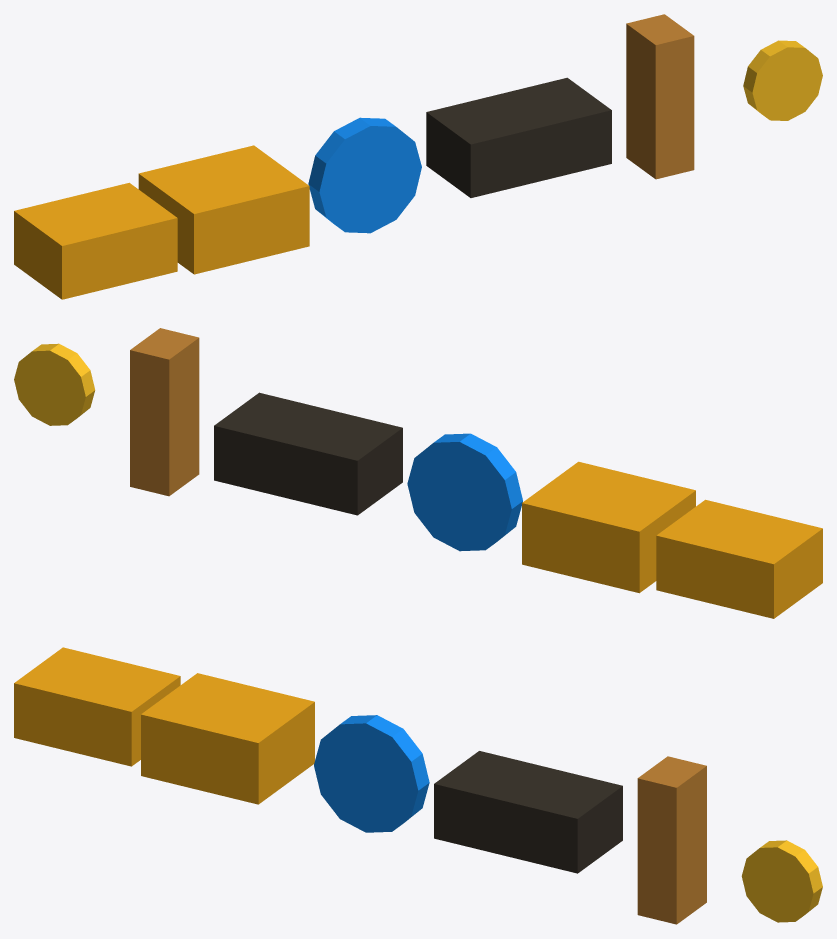
Rendered from FRAG_V0134_EnemyShutdownCueFragments.obj.
The picture shows the model from 3 angles, top to bottom: view 1: azimuth 30°, elevation 25°; view 2: azimuth 150°, elevation 25°; view 3: azimuth 330°, elevation 25°; orthographic projection.
Visible parts, largest first — view 1: bulwark_dim_shield_hinge_shutdown_piece, scrapper_dim_hammer_face_shutdown_piece, scrapper_dim_cutter_tooth_shutdown_piece, warden_dim_cage_rib_shutdown_piece, lancer_dim_bolt_coil_shutdown_piece, shared_broken_weak_lamp_lens_shutdown_piece; view 2: bulwark_dim_shield_hinge_shutdown_piece, scrapper_dim_hammer_face_shutdown_piece, scrapper_dim_cutter_tooth_shutdown_piece, warden_dim_cage_rib_shutdown_piece, lancer_dim_bolt_coil_shutdown_piece, shared_broken_weak_lamp_lens_shutdown_piece; view 3: scrapper_dim_hammer_face_shutdown_piece, bulwark_dim_shield_hinge_shutdown_piece, scrapper_dim_cutter_tooth_shutdown_piece, warden_dim_cage_rib_shutdown_piece, lancer_dim_bolt_coil_shutdown_piece, shared_broken_weak_lamp_lens_shutdown_piece.
Boxes of the visible parts, left/top/right/bottom form: bulwark_dim_shield_hinge_shutdown_piece: left=426, top=77, right=611, bottom=197; scrapper_dim_hammer_face_shutdown_piece: left=138, top=145, right=309, bottom=274; scrapper_dim_cutter_tooth_shutdown_piece: left=14, top=182, right=177, bottom=299; warden_dim_cage_rib_shutdown_piece: left=626, top=14, right=694, bottom=179; lancer_dim_bolt_coil_shutdown_piece: left=308, top=117, right=421, bottom=233; shared_broken_weak_lamp_lens_shutdown_piece: left=743, top=40, right=822, bottom=120; bulwark_dim_shield_hinge_shutdown_piece: left=214, top=392, right=402, bottom=515; scrapper_dim_hammer_face_shutdown_piece: left=522, top=461, right=695, bottom=593; scrapper_dim_cutter_tooth_shutdown_piece: left=656, top=499, right=822, bottom=618; warden_dim_cage_rib_shutdown_piece: left=130, top=328, right=199, bottom=496; lancer_dim_bolt_coil_shutdown_piece: left=407, top=433, right=522, bottom=551; shared_broken_weak_lamp_lens_shutdown_piece: left=14, top=343, right=95, bottom=425; scrapper_dim_hammer_face_shutdown_piece: left=141, top=673, right=314, bottom=804; bulwark_dim_shield_hinge_shutdown_piece: left=434, top=751, right=622, bottom=873; scrapper_dim_cutter_tooth_shutdown_piece: left=14, top=647, right=180, bottom=766; warden_dim_cage_rib_shutdown_piece: left=637, top=756, right=706, bottom=924; lancer_dim_bolt_coil_shutdown_piece: left=314, top=715, right=429, bottom=832; shared_broken_weak_lamp_lens_shutdown_piece: left=741, top=840, right=822, bottom=922.
Bounding box in the file's own units: 1.2 × 0.2 × 0.15.
